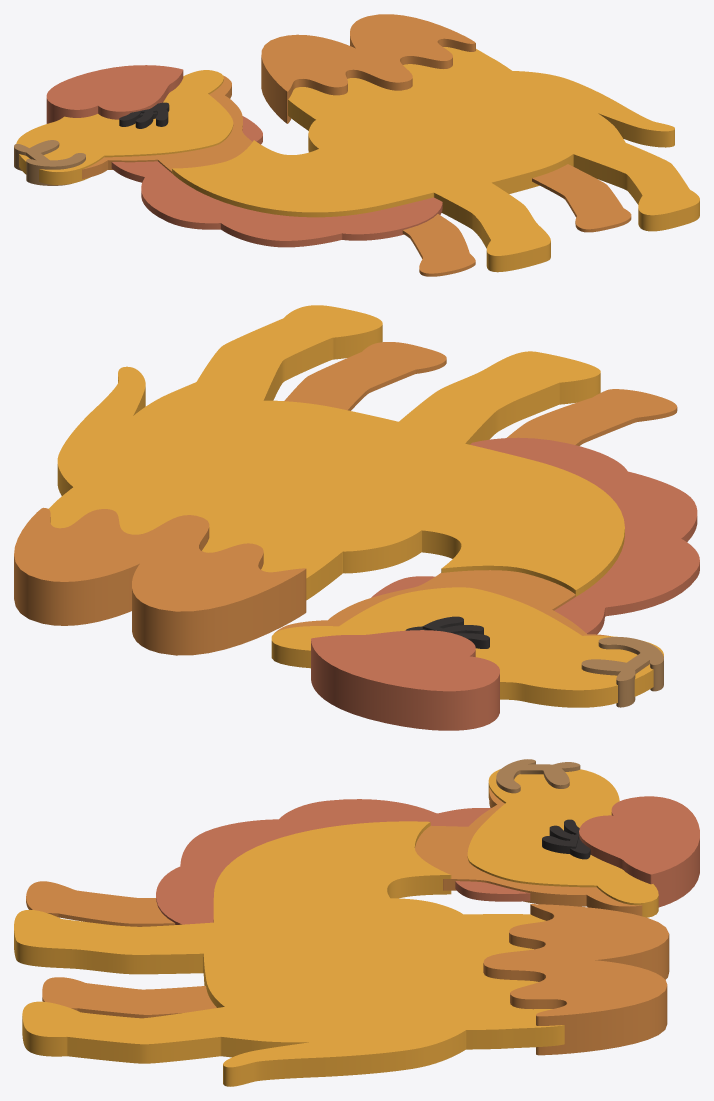
The model's file is emoji_u1f42b.glb.
The picture shows the model from 3 angles, top to bottom: view 1: azimuth 30°, elevation 25°; view 2: azimuth 150°, elevation 25°; view 3: azimuth 270°, elevation 25°; orthographic projection. The views are drawn at different scales.
Parts seen in each view (by area): view 1: emoji_u1f42b; view 2: emoji_u1f42b; view 3: emoji_u1f42b.
Boxes of the visible parts, box(x1,y1,x2,y2) form: emoji_u1f42b: box(14, 14, 699, 276); emoji_u1f42b: box(14, 305, 699, 730); emoji_u1f42b: box(14, 759, 699, 1086).
Bounding box in the file's own units: 0.0338 × 0.002 × 0.032.
